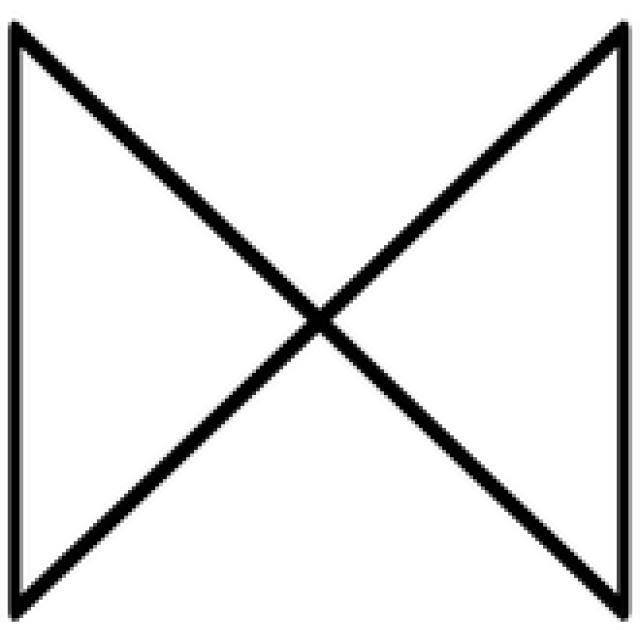Gate valve: (11, 28, 322, 609), (323, 22, 627, 608)
